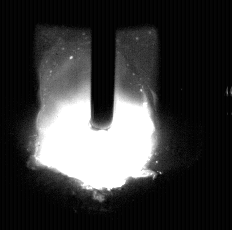arame: (92, 0, 114, 131)
poca: (36, 0, 157, 230)
